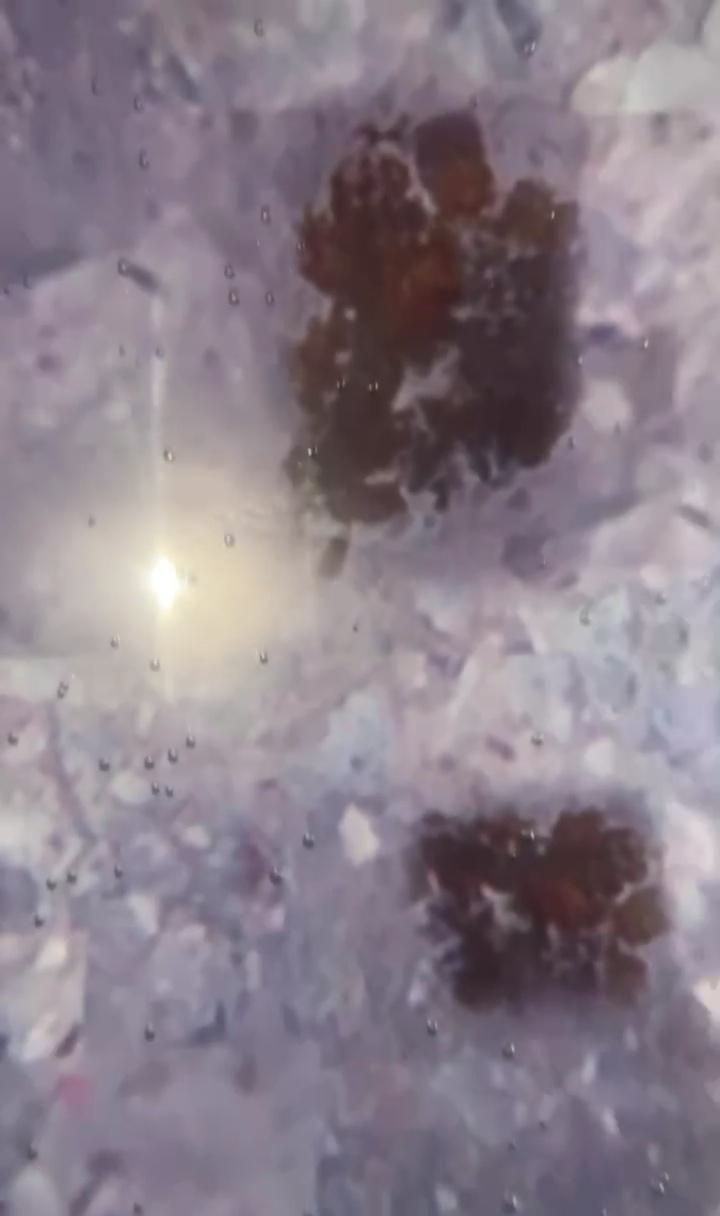Corrosion: (282, 108, 586, 578), (417, 807, 674, 1008)
